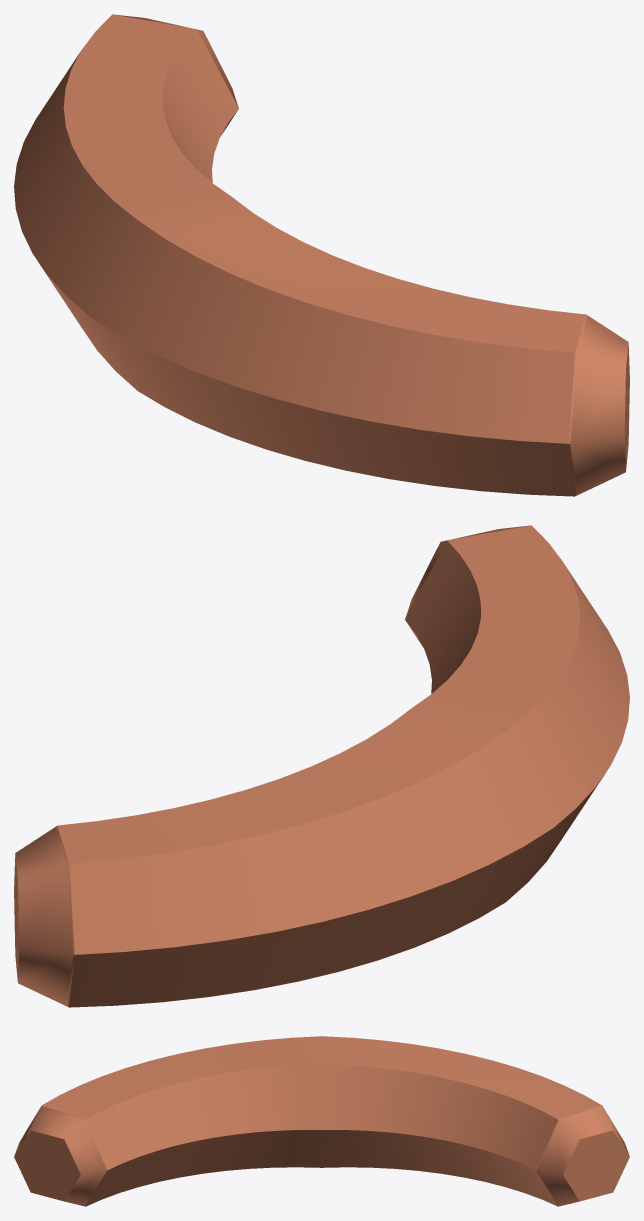
Rendered from meatSausage.GLB.
3 renders of one model, top to bottom at view 1: azimuth 30°, elevation 25°; view 2: azimuth 150°, elevation 25°; view 3: azimuth 270°, elevation 25°, orthographic. The views are drawn at different scales.
Visible parts, largest first — view 1: meatSausage; view 2: meatSausage; view 3: meatSausage.
Part boxes in pixels (box(x1,y1,x2,y2)): meatSausage: box(14, 14, 629, 496); meatSausage: box(14, 525, 629, 1007); meatSausage: box(14, 1036, 629, 1206).
Bounding box in the file's own units: 0.1515 × 0.0727 × 0.3916.
